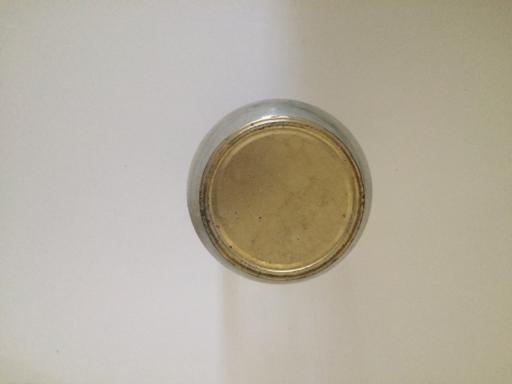metal: (186, 97, 371, 284)
